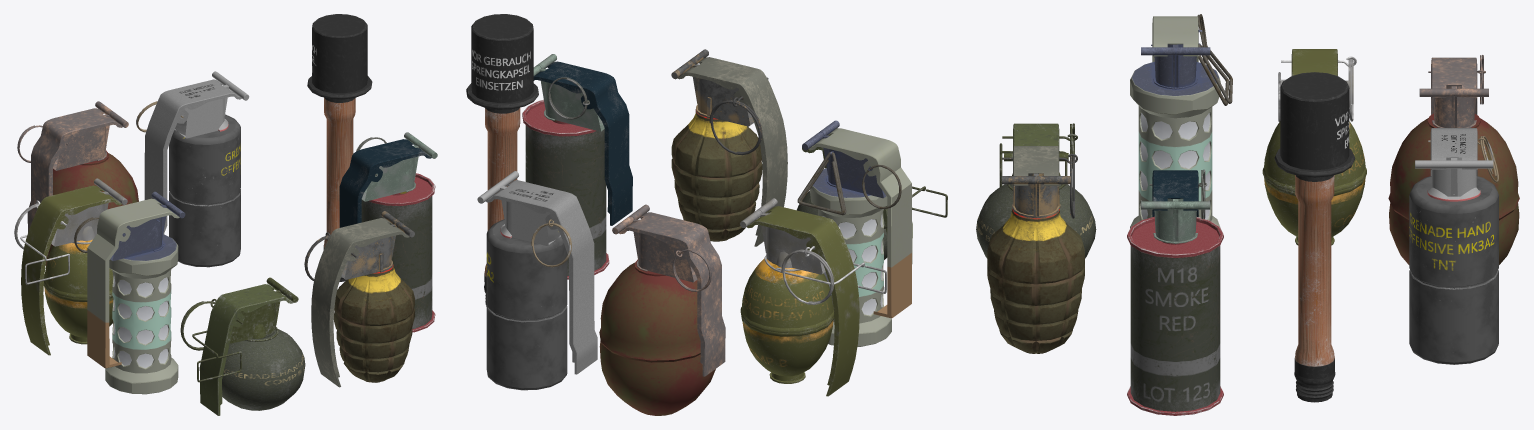
File: Grenades.obj
3 views of the same model, side by side, from view 1: azimuth 30°, elevation 25°; view 2: azimuth 150°, elevation 25°; view 3: azimuth 270°, elevation 25° (orthographic). The views are drawn at different scales.
Parts seen in each view (by area): view 1: Grenade_NonLethal, Grenade_Offensive, Grenade_Fragmentation_V3, Grenade_Fragmentation_V2, Fragmentation_V1, Grenade_M18_Smoke, Grenade_Stick, Grenade_Illuminating; view 2: Grenade_Offensive, Grenade_Illuminating, Fragmentation_V1, Grenade_Fragmentation_V3, Grenade_NonLethal, Grenade_M18_Smoke, Grenade_Stick, Grenade_Fragmentation_V2; view 3: Grenade_M18_Smoke, Grenade_Offensive, Grenade_Fragmentation_V3, Grenade_Stick, Grenade_NonLethal, Grenade_Illuminating, Fragmentation_V1, Grenade_Fragmentation_V2.
Part boxes in pixels (x1,y1,x2,y2): Grenade_NonLethal: [74, 191, 185, 394]; Grenade_Offensive: [136, 71, 249, 267]; Grenade_Fragmentation_V3: [304, 211, 414, 387]; Grenade_Fragmentation_V2: [180, 277, 305, 415]; Fragmentation_V1: [14, 178, 127, 355]; Grenade_M18_Smoke: [339, 132, 437, 332]; Grenade_Stick: [307, 14, 372, 281]; Grenade_Illuminating: [17, 101, 138, 265]; Grenade_Offensive: [477, 171, 597, 390]; Grenade_Illuminating: [599, 204, 725, 415]; Fragmentation_V1: [740, 198, 886, 396]; Grenade_Fragmentation_V3: [671, 49, 787, 246]; Grenade_NonLethal: [797, 120, 911, 346]; Grenade_M18_Smoke: [522, 54, 632, 279]; Grenade_Stick: [466, 14, 538, 306]; Grenade_Fragmentation_V2: [797, 128, 947, 263]; Grenade_M18_Smoke: [1127, 169, 1223, 415]; Grenade_Offensive: [1409, 128, 1498, 364]; Grenade_Fragmentation_V3: [987, 146, 1084, 353]; Grenade_Stick: [1274, 72, 1355, 402]; Grenade_NonLethal: [1130, 14, 1232, 228]; Grenade_Illuminating: [1388, 55, 1519, 264]; Fragmentation_V1: [1262, 49, 1366, 245]; Grenade_Fragmentation_V2: [976, 123, 1096, 258].
Bounding box in the file's own units: 1.85 × 1.23 × 1.95.
